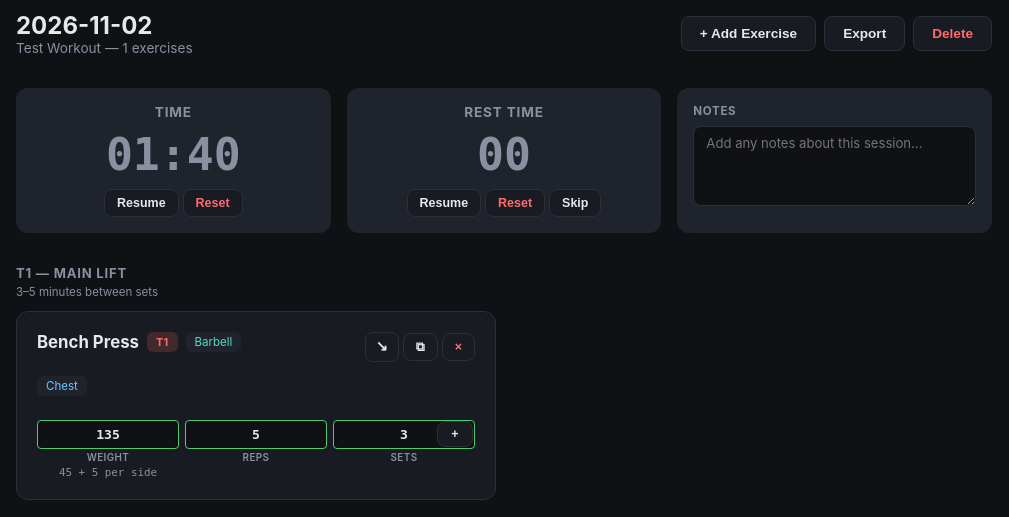
Test: plate breakdown on session cards › drops the breakdown again when the weight is cleared
This screenshot has width=1009, height=517.
Expected: the text "45 + 5 per side" is shown, [59,466,157,479]
Clear the 1st field with placeholder "Weight" at (108, 434), box [37,420,179,449]
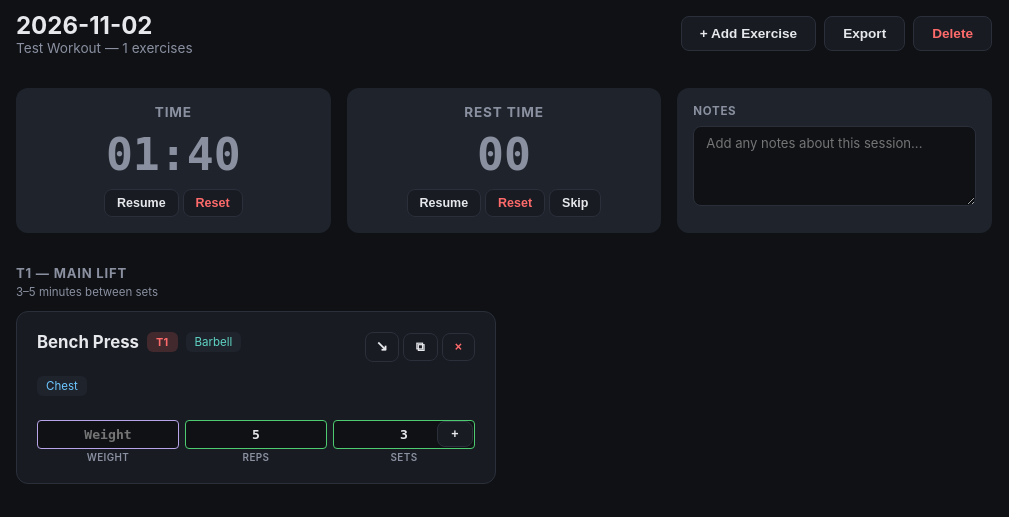
Expected: the text with test id "plate-breakdown" is gone
